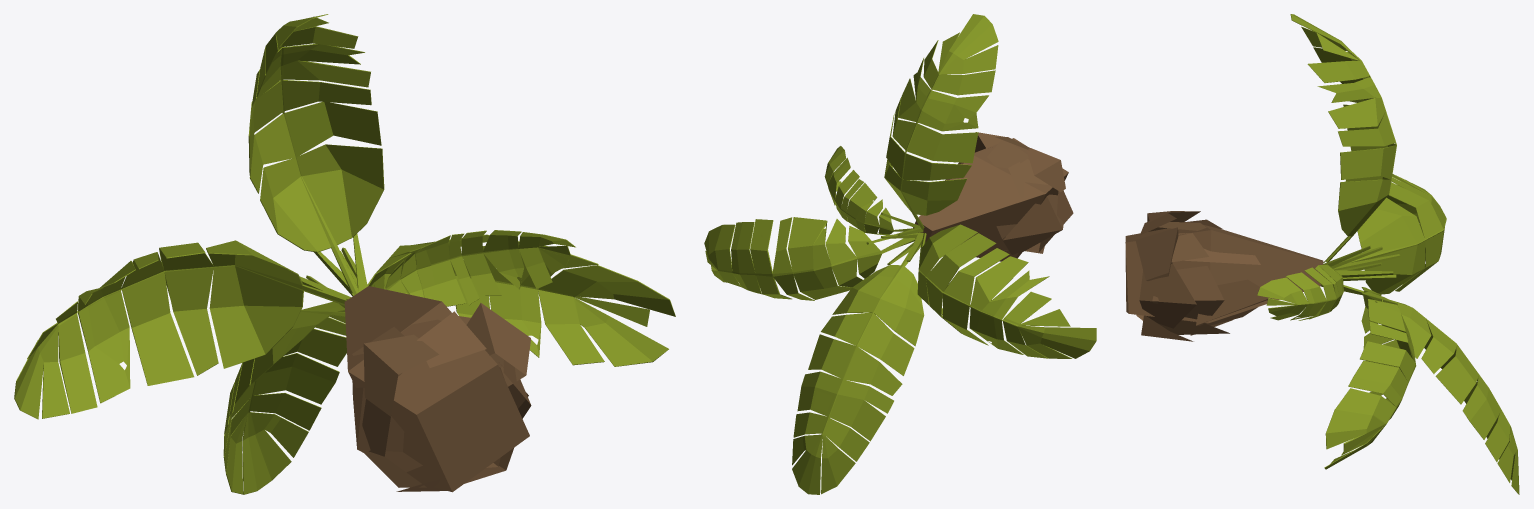
File: BANANA_TREE_PRIM.fbx
3 renders of one model, left to right at view 1: azimuth 30°, elevation 25°; view 2: azimuth 150°, elevation 25°; view 3: azimuth 270°, elevation 25°, orthographic. The views are drawn at different scales.
Visible parts, largest first — view 1: BANANA_TREE_PRIM; view 2: BANANA_TREE_PRIM; view 3: BANANA_TREE_PRIM.
Part boxes in pixels (x1=…): BANANA_TREE_PRIM: x1=14, y1=14, x2=675, y2=494; BANANA_TREE_PRIM: x1=704, y1=14, x2=1096, y2=494; BANANA_TREE_PRIM: x1=1125, y1=14, x2=1519, y2=494.
Bounding box in the file's own units: 24.1 × 22.81 × 18.31.
